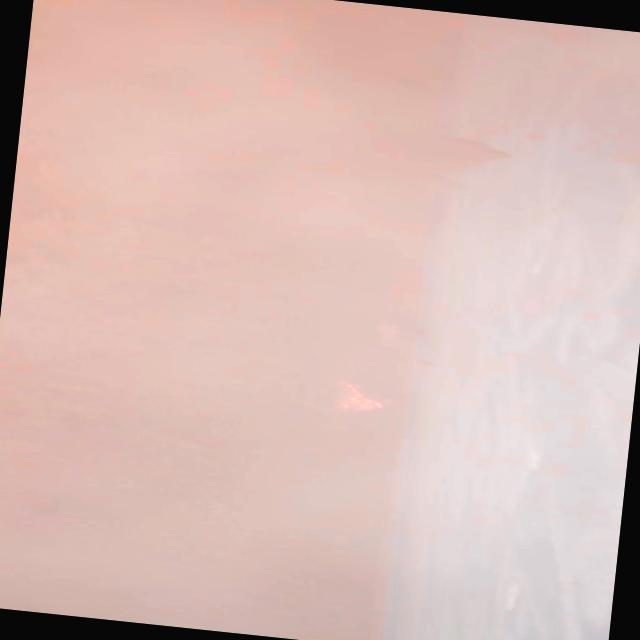fire: (340, 384, 392, 414)
smoke: (0, 0, 640, 640)
